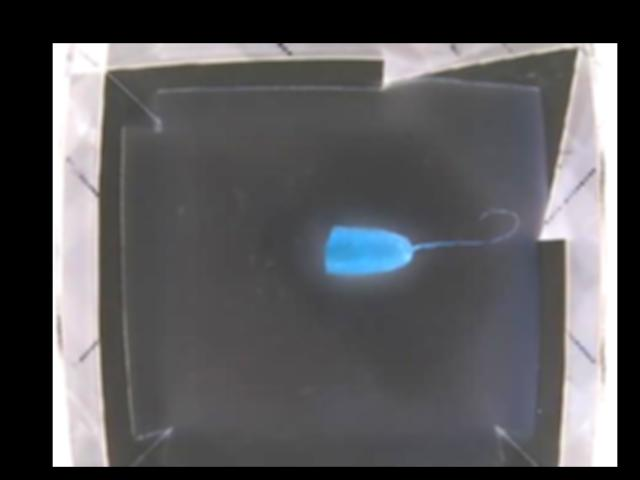Carrot: (321, 220, 418, 276)
